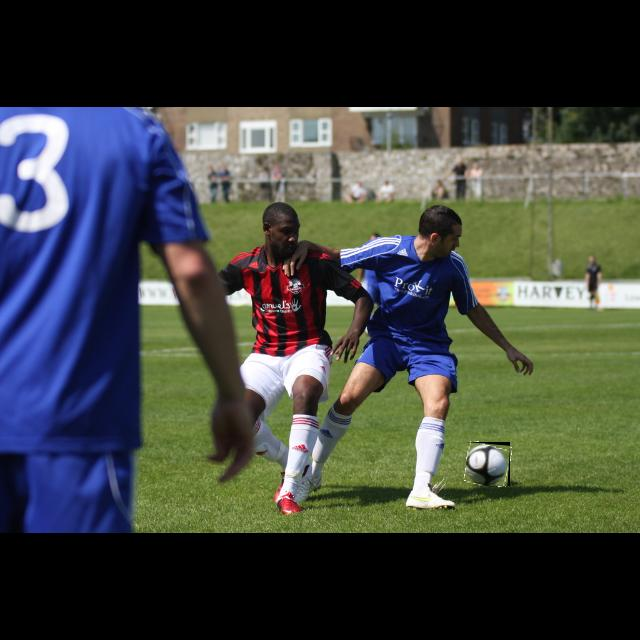Football: (466, 442, 510, 486)
